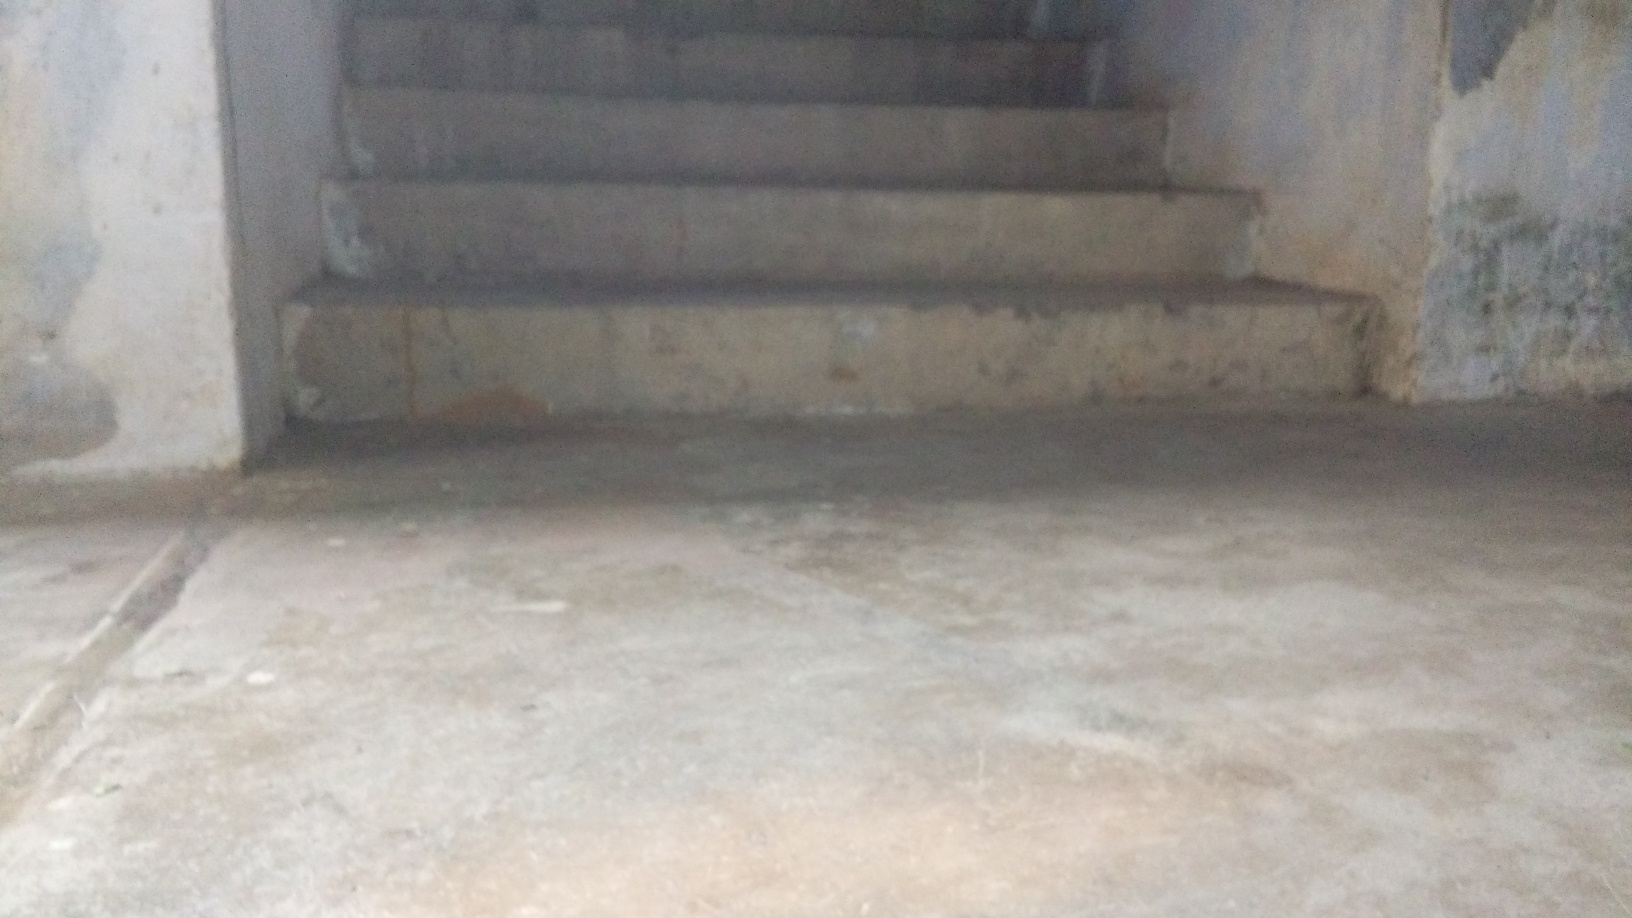stairs_up: (299, 20, 1364, 408)
